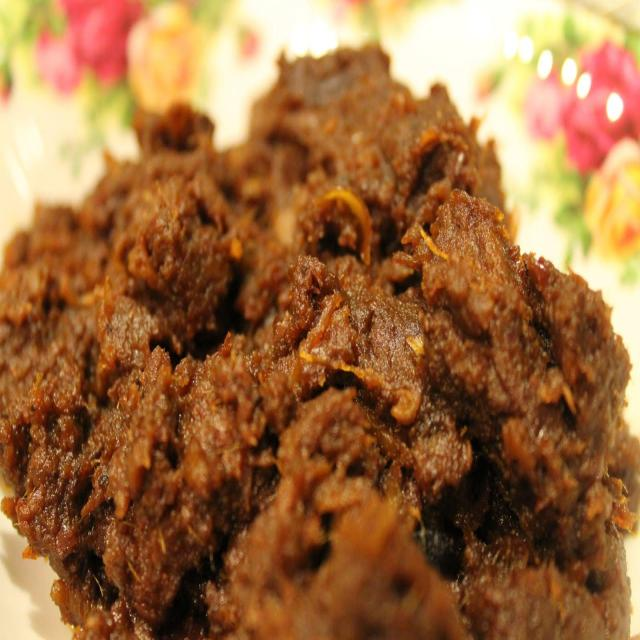Rendang: (8, 25, 640, 640)
